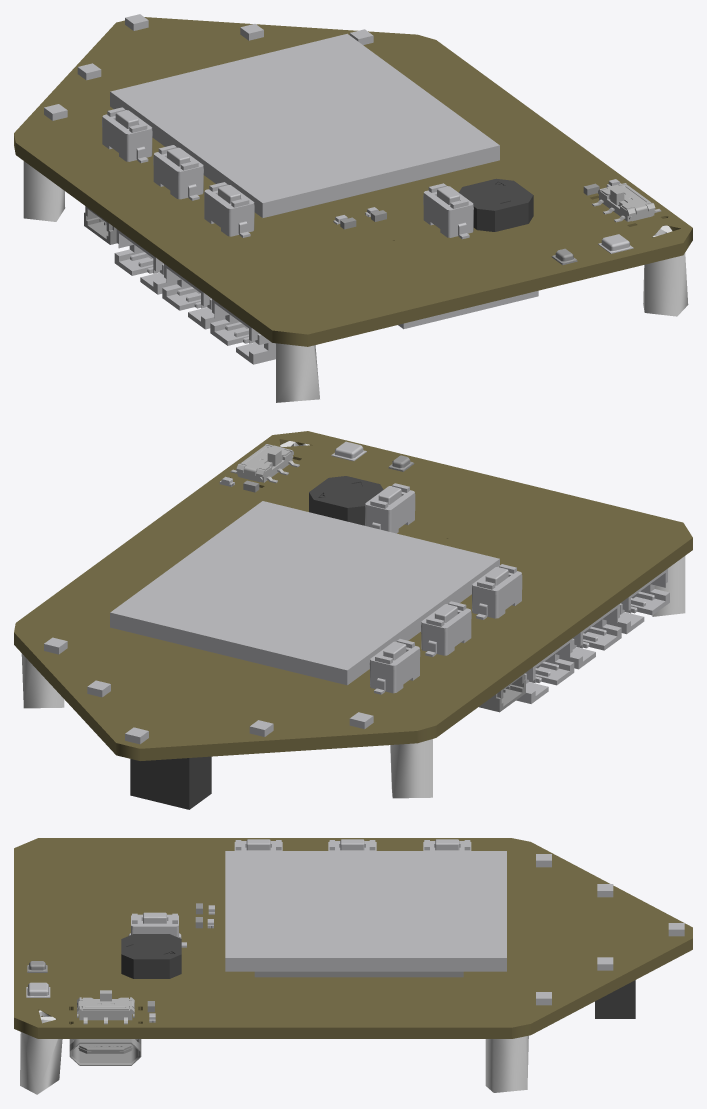
Rendered from ada-4985.glb.
The picture shows the model from 3 angles, top to bottom: view 1: azimuth 30°, elevation 25°; view 2: azimuth 150°, elevation 25°; view 3: azimuth 270°, elevation 25°; orthographic projection. The views are drawn at different scales.
Parts seen in each view (by area): view 1: 0.16666666666666666_0.16666666666666666_0.08333333333333333_, 0.5833333333333334_0.5833333333333334_0.5833333333333334_0.8, 0.9166666666666666_0.9166666666666666_0.9166666666666666_0.8, 0.08333333333333333_0.08333333333333333_0.08333333333333333_, 0.5_0.5_0.5_0.85, 0.3333333333333333_0.3333333333333333_0.3333333333333333_0; view 2: 0.16666666666666666_0.16666666666666666_0.08333333333333333_, 0.5833333333333334_0.5833333333333334_0.5833333333333334_0.8, 0.08333333333333333_0.08333333333333333_0.08333333333333333_, 0.9166666666666666_0.9166666666666666_0.9166666666666666_0.8, 0.5_0.5_0.5_0.85, 0.3333333333333333_0.3333333333333333_0.3333333333333333_0; view 3: 0.16666666666666666_0.16666666666666666_0.08333333333333333_, 0.5833333333333334_0.5833333333333334_0.5833333333333334_0.8, 0.9166666666666666_0.9166666666666666_0.9166666666666666_0.8, 0.3333333333333333_0.3333333333333333_0.3333333333333333_0, 0.08333333333333333_0.08333333333333333_0.08333333333333333_, 0.5_0.5_0.5_0.85.
Boxes of the visible parts, box(x1,y1,x2,y2) form: 0.16666666666666666_0.16666666666666666_0.08333333333333333_: box(14, 17, 692, 346); 0.5833333333333334_0.5833333333333334_0.5833333333333334_0.8: box(44, 14, 633, 364); 0.9166666666666666_0.9166666666666666_0.9166666666666666_0.8: box(23, 161, 688, 402); 0.08333333333333333_0.08333333333333333_0.08333333333333333_: box(459, 178, 533, 231); 0.5_0.5_0.5_0.85: box(592, 183, 661, 222); 0.3333333333333333_0.3333333333333333_0.3333333333333333_0: box(84, 169, 599, 265); 0.16666666666666666_0.16666666666666666_0.08333333333333333_: box(14, 431, 692, 760); 0.5833333333333334_0.5833333333333334_0.5833333333333334_0.8: box(44, 441, 669, 744); 0.08333333333333333_0.08333333333333333_0.08333333333333333_: box(130, 476, 383, 809); 0.9166666666666666_0.9166666666666666_0.9166666666666666_0.8: box(21, 441, 685, 798); 0.5_0.5_0.5_0.85: box(230, 444, 299, 483); 0.3333333333333333_0.3333333333333333_0.3333333333333333_0: box(243, 455, 525, 712); 0.16666666666666666_0.16666666666666666_0.08333333333333333_: box(14, 838, 692, 1038); 0.5833333333333334_0.5833333333333334_0.5833333333333334_0.8: box(26, 839, 684, 1022); 0.9166666666666666_0.9166666666666666_0.9166666666666666_0.8: box(20, 1010, 528, 1094); 0.3333333333333333_0.3333333333333333_0.3333333333333333_0: box(27, 903, 463, 1065); 0.08333333333333333_0.08333333333333333_0.08333333333333333_: box(121, 934, 635, 1018); 0.5_0.5_0.5_0.85: box(77, 990, 134, 1024).
Size of the model in its own units: 5.7 by 1.44 by 8.46.
